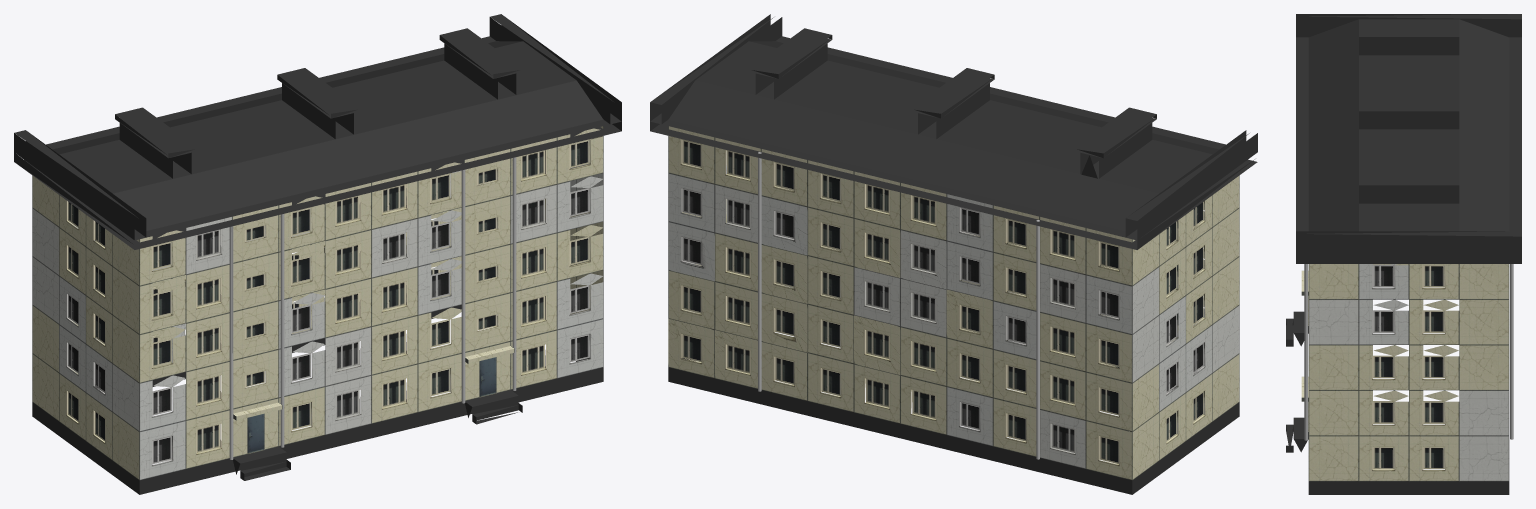
File: panel_c01.glb
The picture shows the model from 3 angles, left to right: view 1: azimuth 30°, elevation 25°; view 2: azimuth 150°, elevation 25°; view 3: azimuth 270°, elevation 25°; orthographic projection. The views are drawn at different scales.
Parts seen in each view (by area): view 1: Plane.055_Foundation_0, Cube.010_Foundation_0, Cube.011_Foundation_0, Cube.012_Foundation_0, Plane.007_Window1b_0, Plane.071_Window3b_0, Plane.074_Window3b_0, Plane.001_Window3_0, Plane.006_Window3_0, Plane.014_Window1b_0, Plane.003_Window3_0, Plane.128_Window3_0 (+80 smaller); view 2: Plane.055_Foundation_0, Cube.010_Foundation_0, Cube.011_Foundation_0, Cube.012_Foundation_0, Plane.119_Window_0, Plane.146_Window_0, Plane.021_Window1b_0, Plane.065_Window1b_0, Plane.023_Window_0, Plane.066_Window3_0, Plane.094_Window3_0, Plane.122_Window_0 (+80 smaller); view 3: Plane.055_Foundation_0, Cube.010_Foundation_0, Cube.012_Foundation_0, Cube.011_Foundation_0, Plane.028_Wall_0, Plane.166_Wallb_0, Plane.010_Wall_0, Plane.025_Wallb_0, Plane.027_Window_0, Plane.029_Wall_0, Plane.030_Wallb_0, Plane.085_Wall_0 (+26 smaller).
Boxes of the visible parts, x1=… form: Plane.055_Foundation_0: x1=44, y1=41, x2=603, y2=230; Cube.010_Foundation_0: x1=14, y1=36, x2=621, y2=249; Cube.011_Foundation_0: x1=14, y1=130, x2=146, y2=239; Cube.012_Foundation_0: x1=489, y1=14, x2=621, y2=123; Plane.007_Window1b_0: x1=557, y1=318, x2=603, y2=378; Plane.071_Window3b_0: x1=325, y1=375, x2=371, y2=434; Plane.074_Window3b_0: x1=325, y1=326, x2=371, y2=386; Plane.001_Window3_0: x1=325, y1=278, x2=371, y2=337; Plane.006_Window3_0: x1=325, y1=229, x2=371, y2=289; Plane.014_Window1b_0: x1=139, y1=420, x2=185, y2=480; Plane.003_Window3_0: x1=371, y1=364, x2=417, y2=423; Plane.128_Window3_0: x1=371, y1=267, x2=417, y2=326; Plane.055_Foundation_0: x1=668, y1=41, x2=1219, y2=230; Cube.010_Foundation_0: x1=650, y1=36, x2=1257, y2=249; Cube.011_Foundation_0: x1=1125, y1=130, x2=1257, y2=239; Cube.012_Foundation_0: x1=650, y1=14, x2=782, y2=123; Plane.119_Window_0: x1=946, y1=289, x2=993, y2=349; Plane.146_Window_0: x1=946, y1=338, x2=993, y2=397; Plane.021_Window1b_0: x1=946, y1=386, x2=993, y2=446; Plane.065_Window1b_0: x1=946, y1=241, x2=993, y2=300; Plane.023_Window_0: x1=668, y1=318, x2=714, y2=378; Plane.066_Window3_0: x1=900, y1=375, x2=946, y2=434; Plane.094_Window3_0: x1=900, y1=326, x2=946, y2=386; Plane.122_Window_0: x1=807, y1=255, x2=853, y2=315; Plane.055_Foundation_0: x1=1308, y1=19, x2=1509, y2=236; Cube.010_Foundation_0: x1=1296, y1=37, x2=1521, y2=263; Cube.012_Foundation_0: x1=1296, y1=231, x2=1521, y2=254; Cube.011_Foundation_0: x1=1296, y1=14, x2=1521, y2=37; Plane.028_Wall_0: x1=1308, y1=390, x2=1358, y2=435; Plane.166_Wallb_0: x1=1459, y1=390, x2=1509, y2=435; Plane.010_Wall_0: x1=1308, y1=436, x2=1358, y2=481; Plane.025_Wallb_0: x1=1459, y1=436, x2=1509, y2=481; Plane.027_Window_0: x1=1409, y1=436, x2=1459, y2=481; Plane.029_Wall_0: x1=1308, y1=345, x2=1358, y2=390; Plane.030_Wallb_0: x1=1308, y1=299, x2=1358, y2=344; Plane.085_Wall_0: x1=1459, y1=299, x2=1509, y2=344.
Size of the model in its own units: 28.11 by 17 by 12.58.
10 materials, 8 textured.
